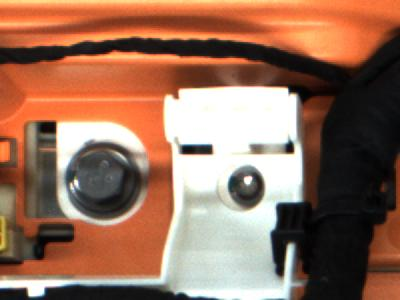nut_b: (64, 138, 146, 221)
